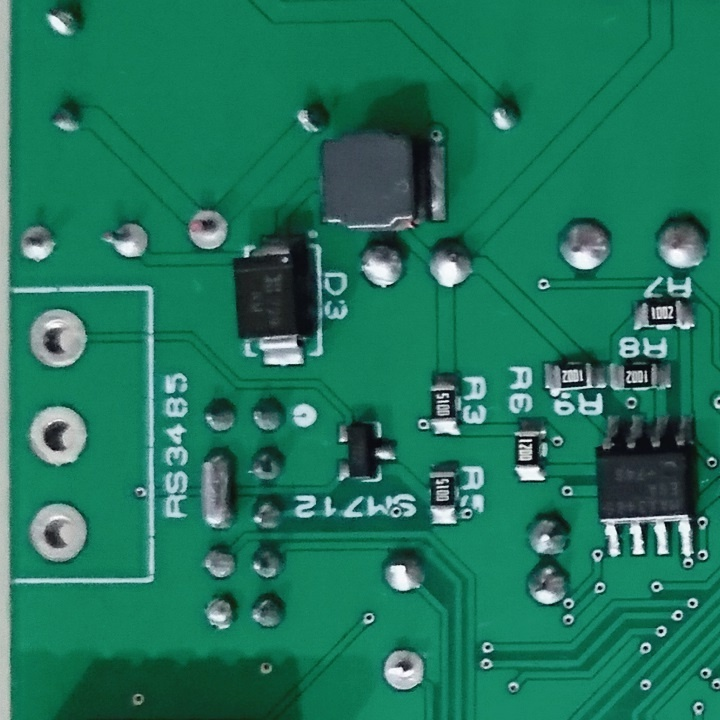F: (22, 496, 92, 568), (26, 398, 93, 469), (25, 306, 91, 369), (377, 645, 429, 696), (97, 220, 154, 264), (14, 221, 62, 269), (184, 207, 230, 255)
P: (196, 444, 243, 532)
